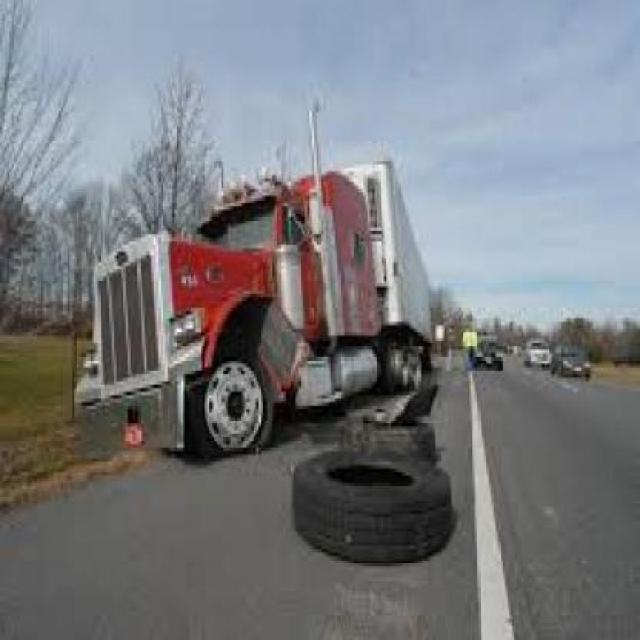accident: (62, 160, 461, 562)
